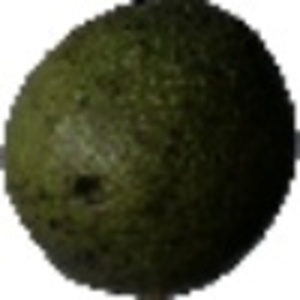abacate: (5, 5, 296, 297)
